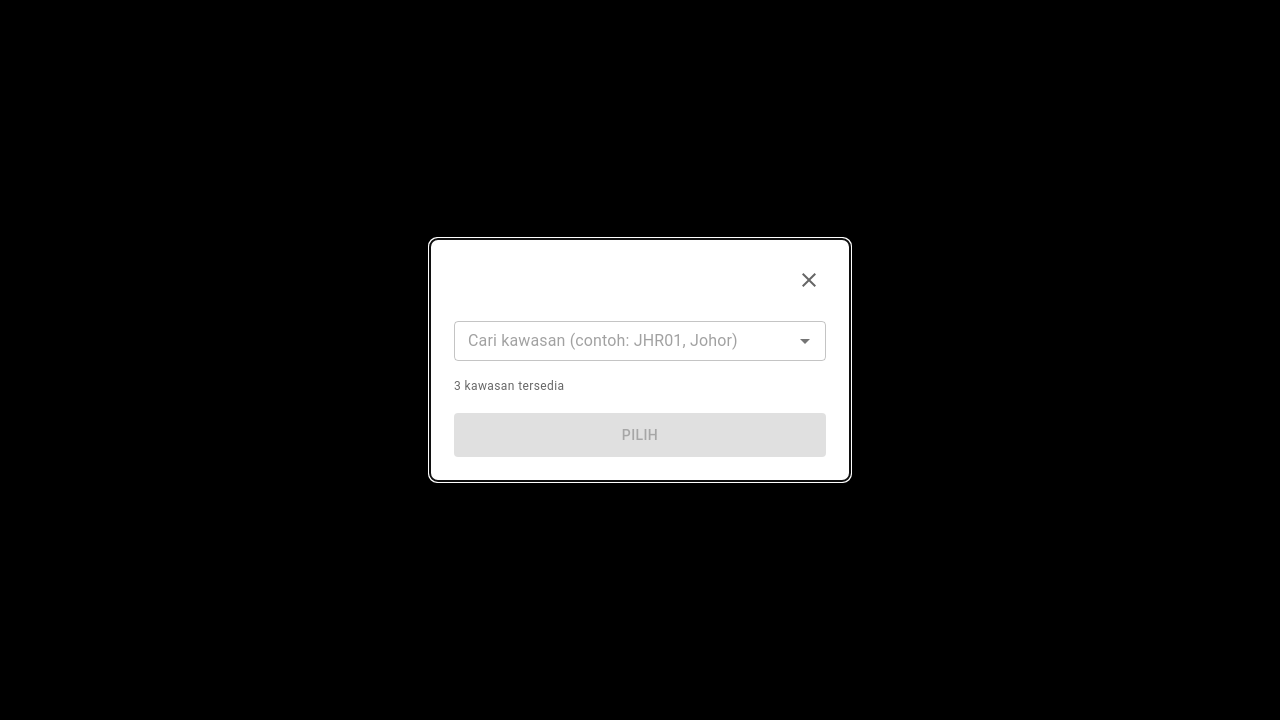
Test: ZoneModal Component › Zone Filtering › should filter zones by code when typing
// Type zone code
Type "JHR" into the dropdown at [624, 341], box top-left (460, 327), bottom-right (787, 355)
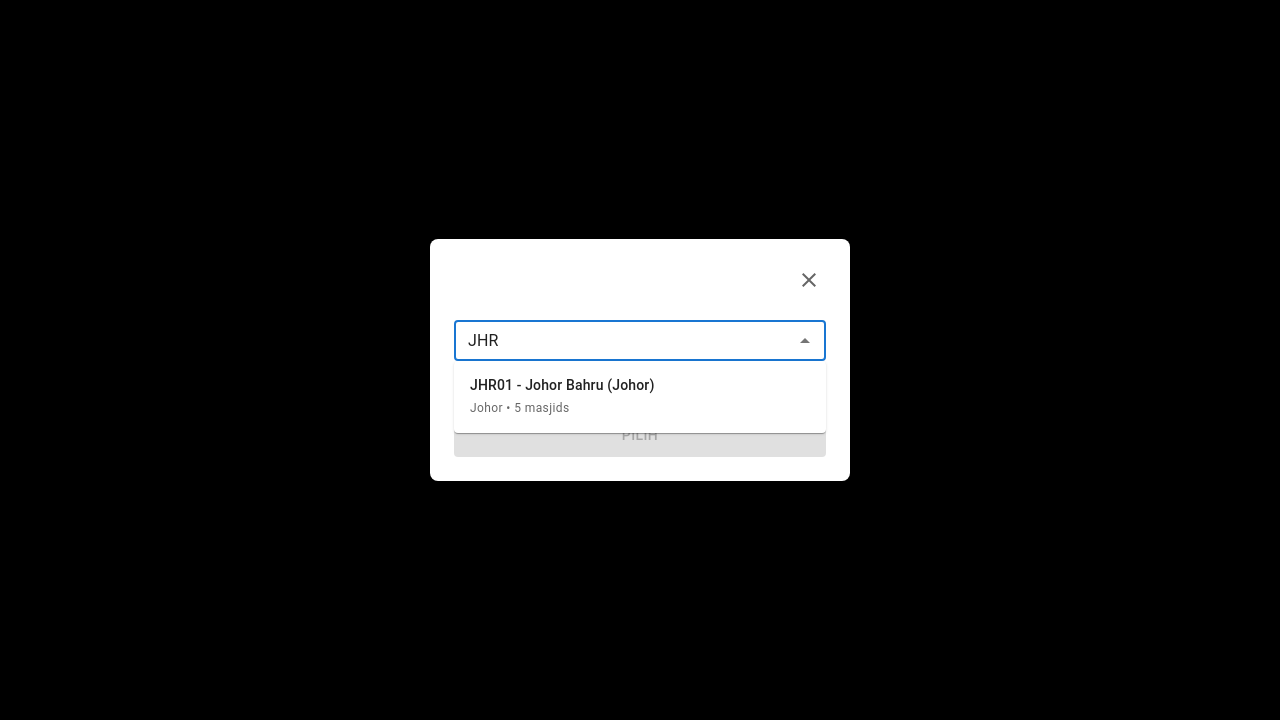
Result: the text "JHR01 - Johor Bahru (Johor)" is shown at top-left (470, 375), bottom-right (654, 395)
Result: the option "KDH01" is gone
